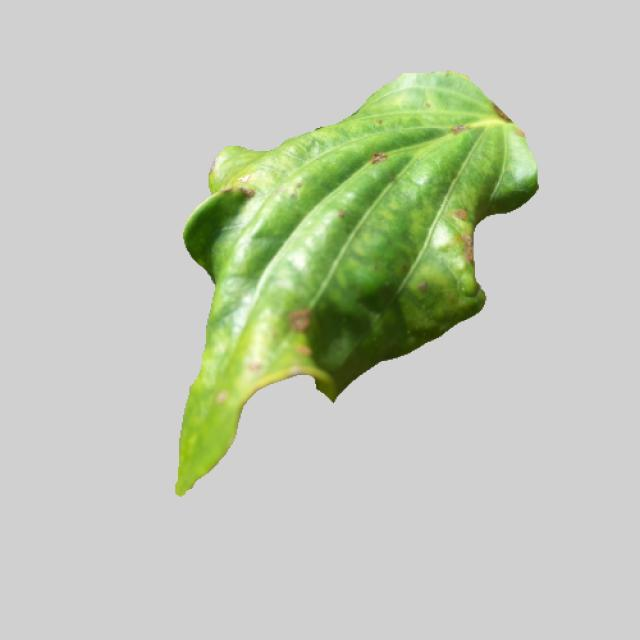yellow-mottle-virus: (152, 73, 540, 499)
